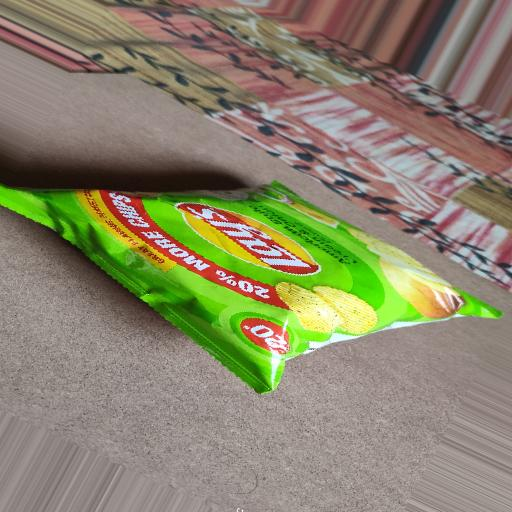Lays Green Small pack (American style cream and onion): (3, 166, 512, 416)
